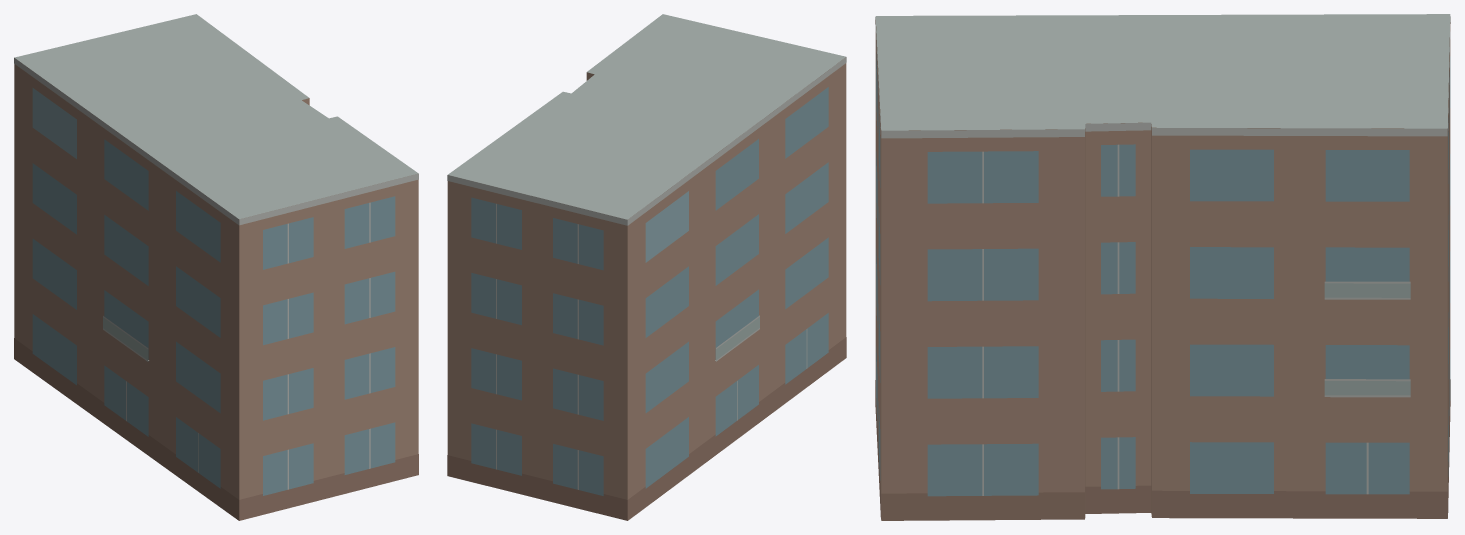
The model's file is survey-upis-32738964.glb.
3 renders of one model, left to right at view 1: azimuth 30°, elevation 25°; view 2: azimuth 150°, elevation 25°; view 3: azimuth 270°, elevation 25°, orthographic. The views are drawn at different scales.
Parts seen in each view (by area): view 1: survey-upis-32738964.tmp; view 2: survey-upis-32738964.tmp; view 3: survey-upis-32738964.tmp.
Boxes of the visible parts, bbox=[...] form: survey-upis-32738964.tmp: bbox=[14, 14, 418, 520]; survey-upis-32738964.tmp: bbox=[447, 14, 846, 520]; survey-upis-32738964.tmp: bbox=[875, 14, 1450, 520].
Bounding box in the file's own units: 7.83 × 12.2 × 16.3.
